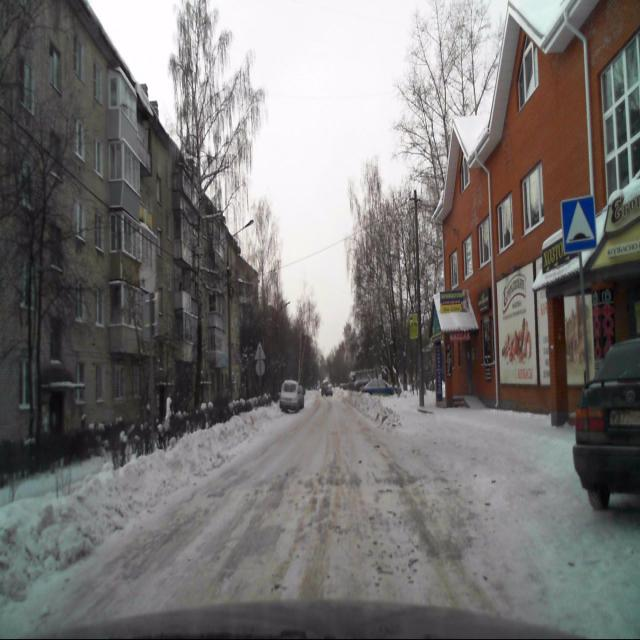object: (580, 254, 590, 383)
road sign: (562, 197, 596, 255)
